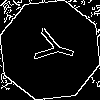Y: (25, 25, 78, 69)
